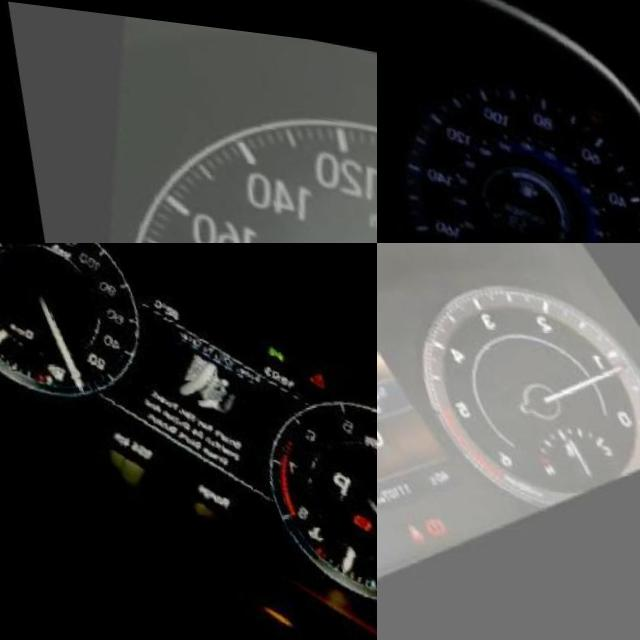Engine cooling system: (289, 509, 321, 539)
Low fuel level: (37, 361, 66, 388)
